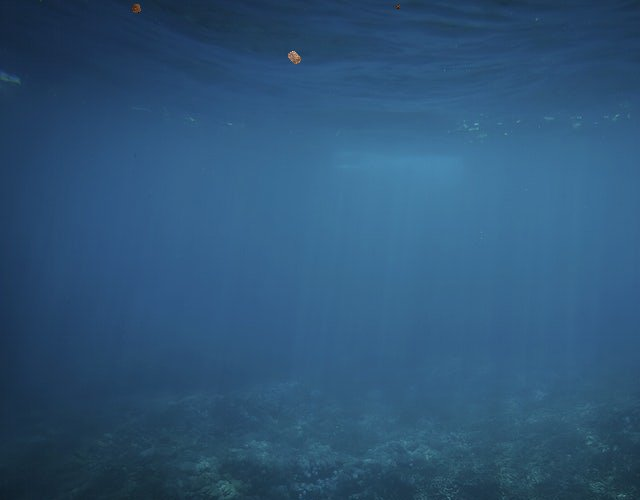Pellet: (280, 43, 308, 71)
